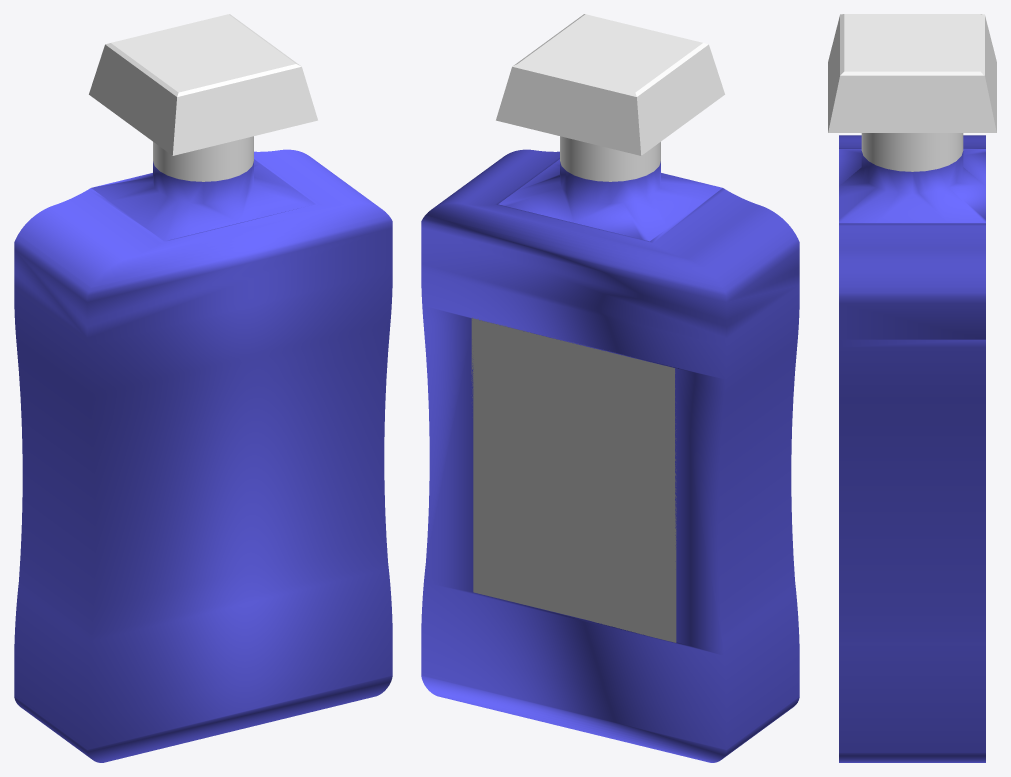
3 renders of one model, left to right at view 1: azimuth 30°, elevation 25°; view 2: azimuth 150°, elevation 25°; view 3: azimuth 270°, elevation 25°, orthographic.
Parts seen in each view (by area): view 1: mesh1_mesh1-geometry; view 2: mesh1_mesh1-geometry, mesh2_mesh2-geometry; view 3: mesh1_mesh1-geometry.
Boxes of the visible parts, x1,y1,x2,y2 form: mesh1_mesh1-geometry: (14,14,392,762); mesh1_mesh1-geometry: (421,14,799,762); mesh2_mesh2-geometry: (471,317,676,642); mesh1_mesh1-geometry: (828,14,996,762).
Bounding box in the file's own units: 0.4323 × 0.8779 × 0.2058.
